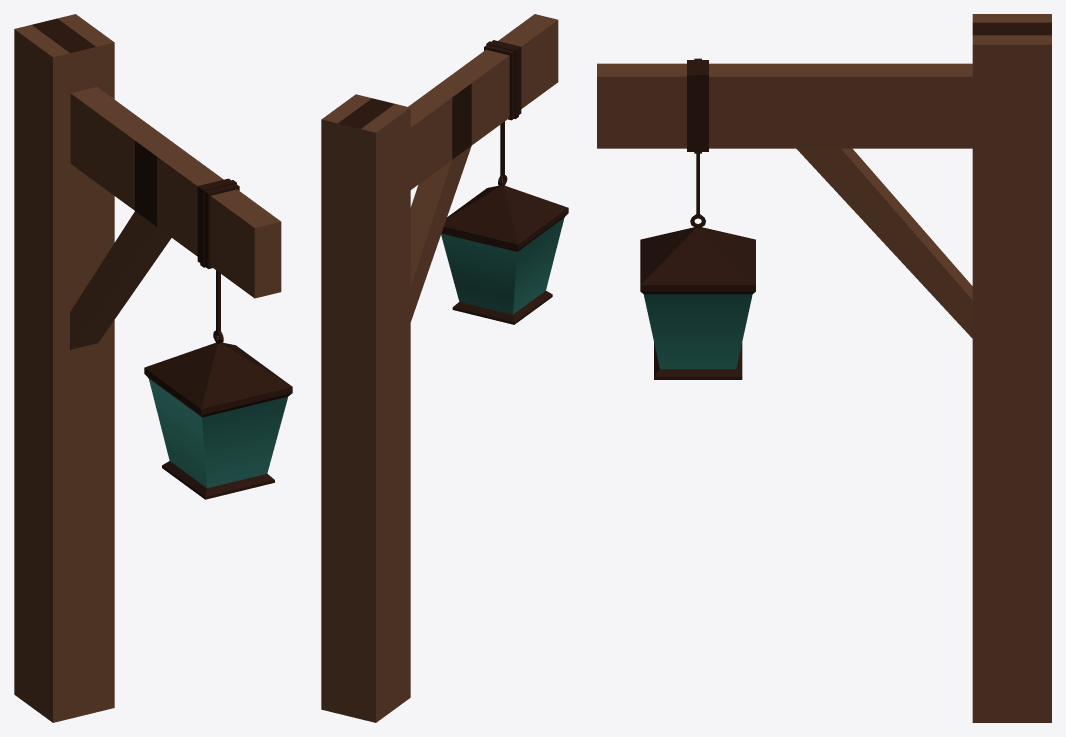
The model's file is Lamp Big.fbx.
The picture shows the model from 3 angles, left to right: view 1: azimuth 30°, elevation 25°; view 2: azimuth 150°, elevation 25°; view 3: azimuth 270°, elevation 25°; orthographic projection. The views are drawn at different scales.
Parts seen in each view (by area): view 1: Lamp 1; view 2: Lamp 1; view 3: Lamp 1.
Part boxes in pixels (bbox=[...]): Lamp 1: bbox=[14, 14, 292, 722]; Lamp 1: bbox=[321, 14, 568, 722]; Lamp 1: bbox=[597, 14, 1051, 722].
Bounding box in the file's own units: 75.98 × 527 × 320.
